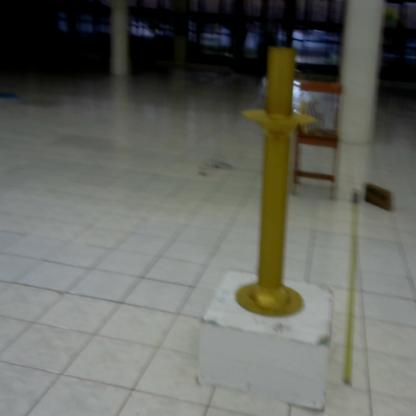pole: (235, 38, 318, 329)
